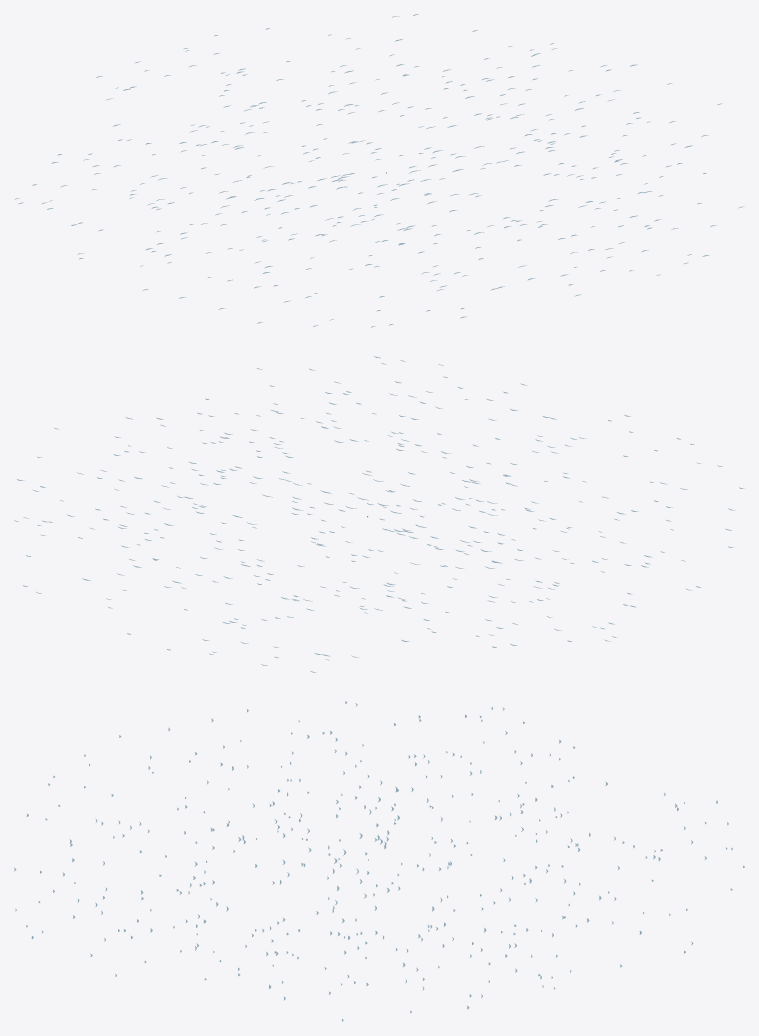
File: lull.glb
3 renders of one model, top to bottom at view 1: azimuth 30°, elevation 25°; view 2: azimuth 150°, elevation 25°; view 3: azimuth 270°, elevation 25°, orthographic. The views are drawn at different scales.
Parts seen in each view (by area): view 1: lull_body; view 2: lull_body; view 3: lull_body.
Part boxes in pixels (left/top/right/bottom): lull_body: left=14, top=14, right=744, bottom=327; lull_body: left=14, top=356, right=744, bottom=672; lull_body: left=14, top=701, right=744, bottom=1021.
Size of the model in its own units: 1.77 by 0.002 by 1.71.
Materials: 1 (1 with a texture image).
